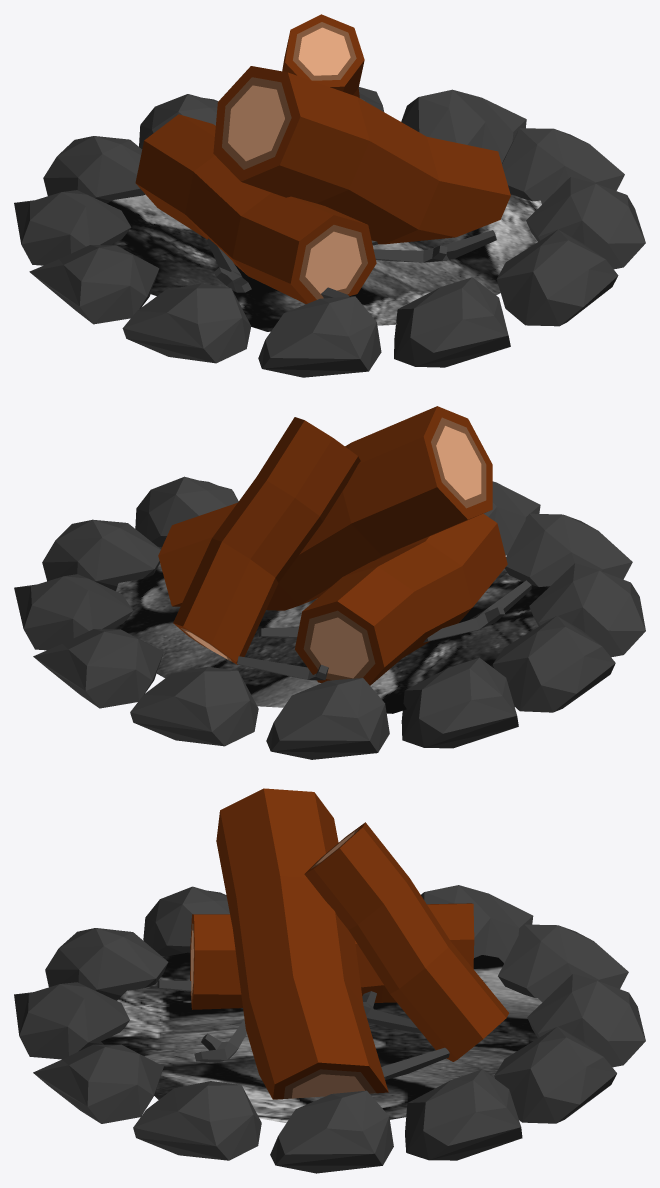
Rendered from campfire.fbx.
3 views of the same model, one above another, from view 1: azimuth 30°, elevation 25°; view 2: azimuth 150°, elevation 25°; view 3: azimuth 270°, elevation 25° (orthographic).
Parts seen in each view (by area): view 1: Icosphere, Cylinder, Plane, Cube; view 2: Icosphere, Cylinder, Plane, Cube; view 3: Icosphere, Cylinder, Plane, Cube.
Boxes of the visible parts, bbox=[...] form: Icosphere: bbox=[14, 87, 645, 377]; Cylinder: bbox=[135, 14, 510, 303]; Plane: bbox=[107, 193, 541, 331]; Cube: bbox=[207, 230, 496, 298]; Icosphere: bbox=[14, 476, 645, 759]; Cylinder: bbox=[158, 406, 507, 685]; Plane: bbox=[112, 563, 549, 713]; Cube: bbox=[237, 580, 531, 680]; Icosphere: bbox=[14, 885, 645, 1173]; Cylinder: bbox=[190, 788, 508, 1099]; Plane: bbox=[101, 952, 542, 1122]; Cube: bbox=[157, 980, 483, 1079].
Bounding box in the file's own units: 734 × 324 × 732.
6 materials, 1 textured.
